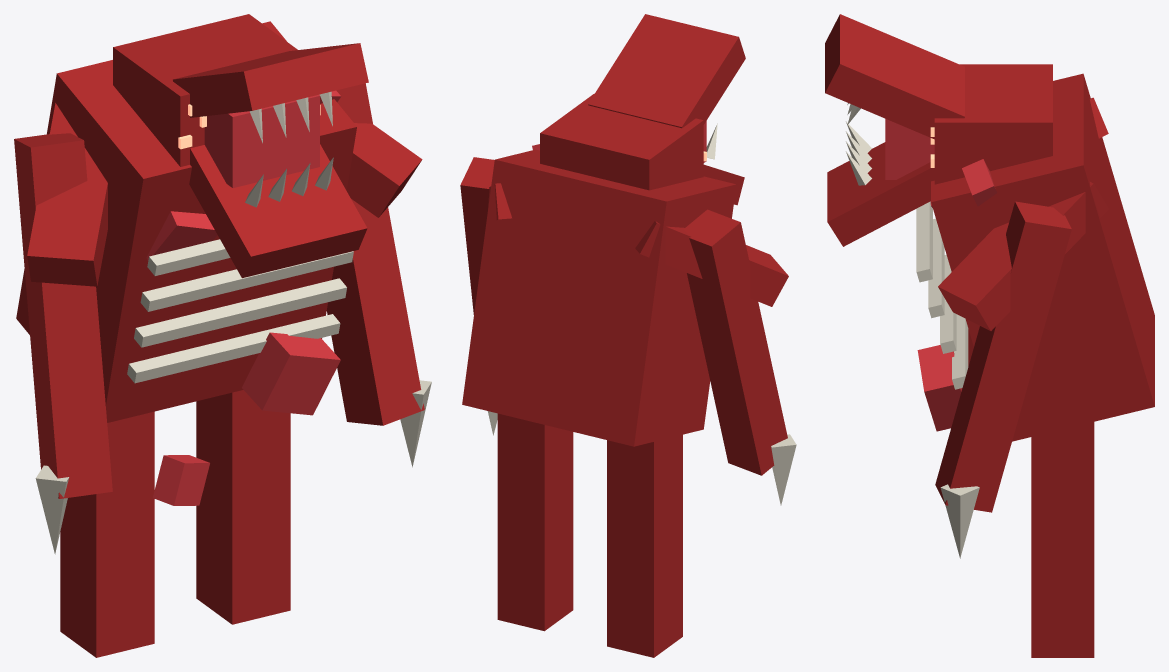
The model's file is beast_stage3.fbx.
3 views of the same model, side by side, from view 1: azimuth 30°, elevation 25°; view 2: azimuth 150°, elevation 25°; view 3: azimuth 270°, elevation 25° (orthographic). The views are drawn at different scales.
Parts seen in each view (by area): view 1: beast_stage3; view 2: beast_stage3; view 3: beast_stage3.
Boxes of the visible parts, <box> form: beast_stage3: <box>14,14,431,657</box>; beast_stage3: <box>460,14,796,657</box>; beast_stage3: <box>825,14,1154,657</box>.
Size of the model in its own units: 2.04 by 3.23 by 1.67.
